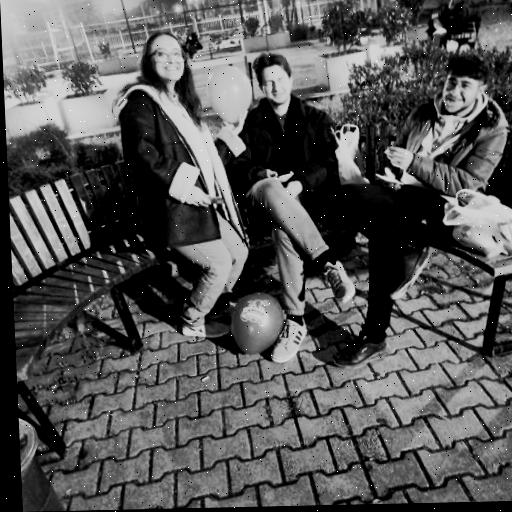balloon: (229, 294, 286, 357), (205, 64, 254, 123)
